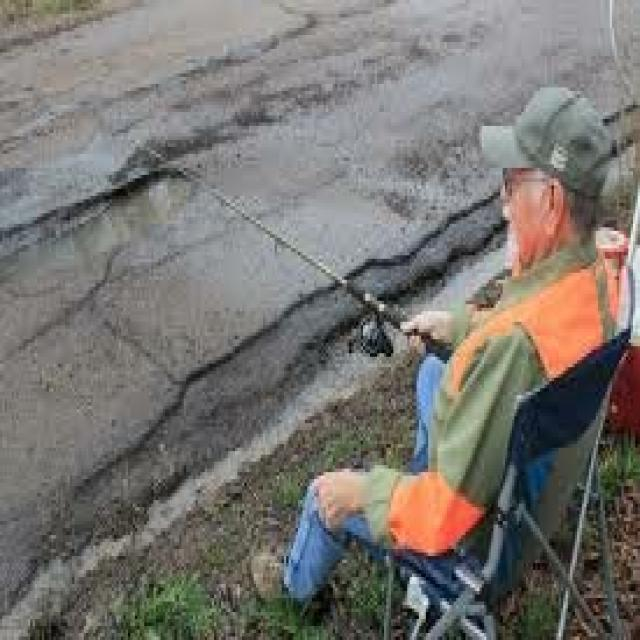Pothole: (2, 119, 240, 336)
